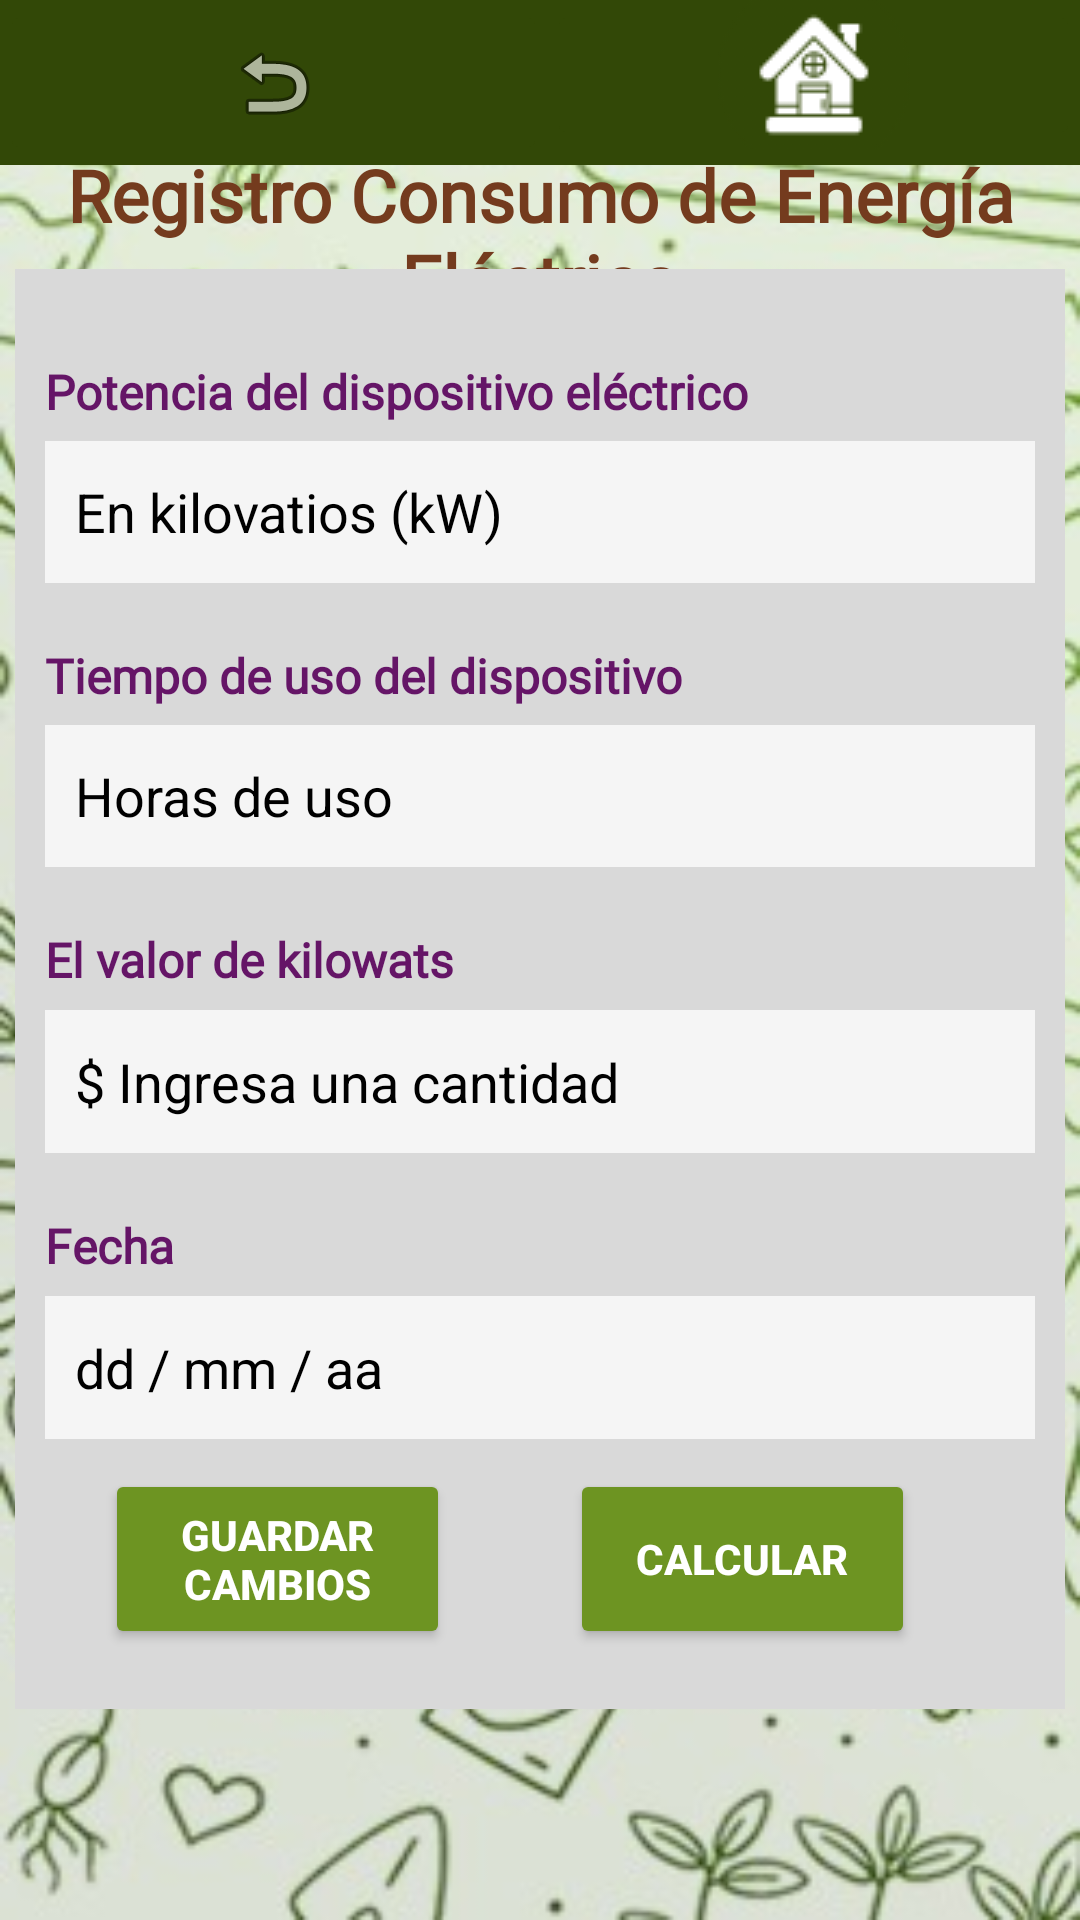

Where icons sit on this 1080 x 1920 app screen, as [x1=x1, y1=y1, x2=x2, y2=y2]:
Home: [x1=759, y1=15, x2=869, y2=135]
